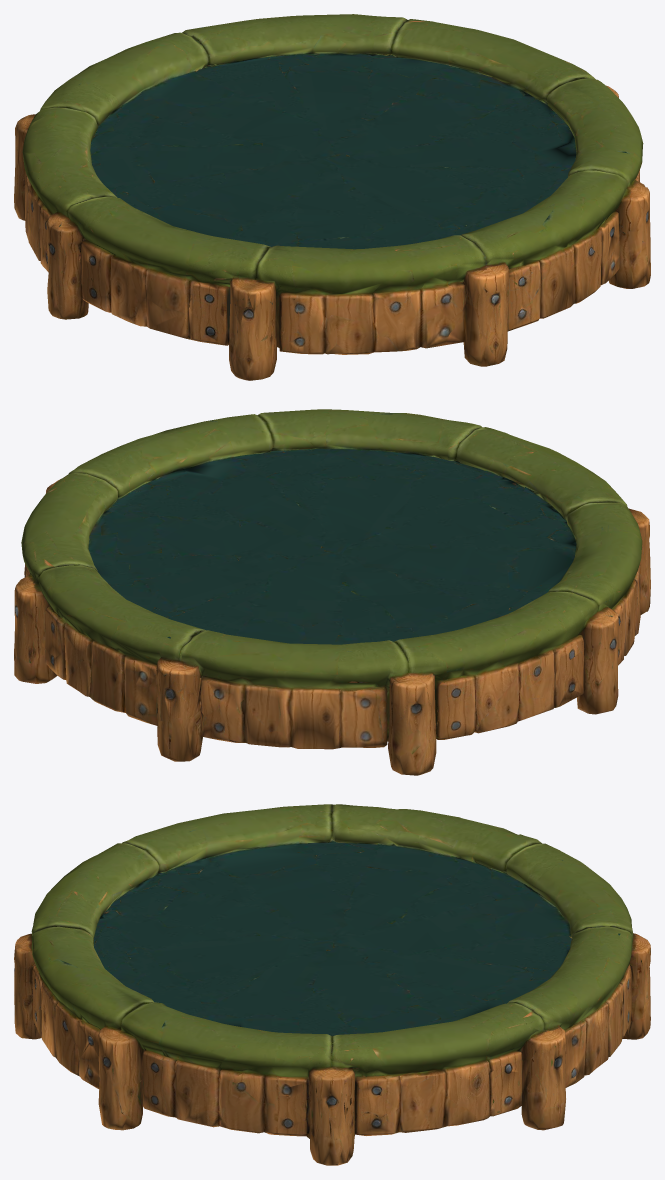
File: zipzip.glb
3 views of the same model, one above another, from view 1: azimuth 30°, elevation 25°; view 2: azimuth 150°, elevation 25°; view 3: azimuth 270°, elevation 25° (orthographic). The views are drawn at different scales.
Size of the model in its own units: 1.9 by 0.3576 by 1.9.
Materials: 1 (1 with a texture image).
